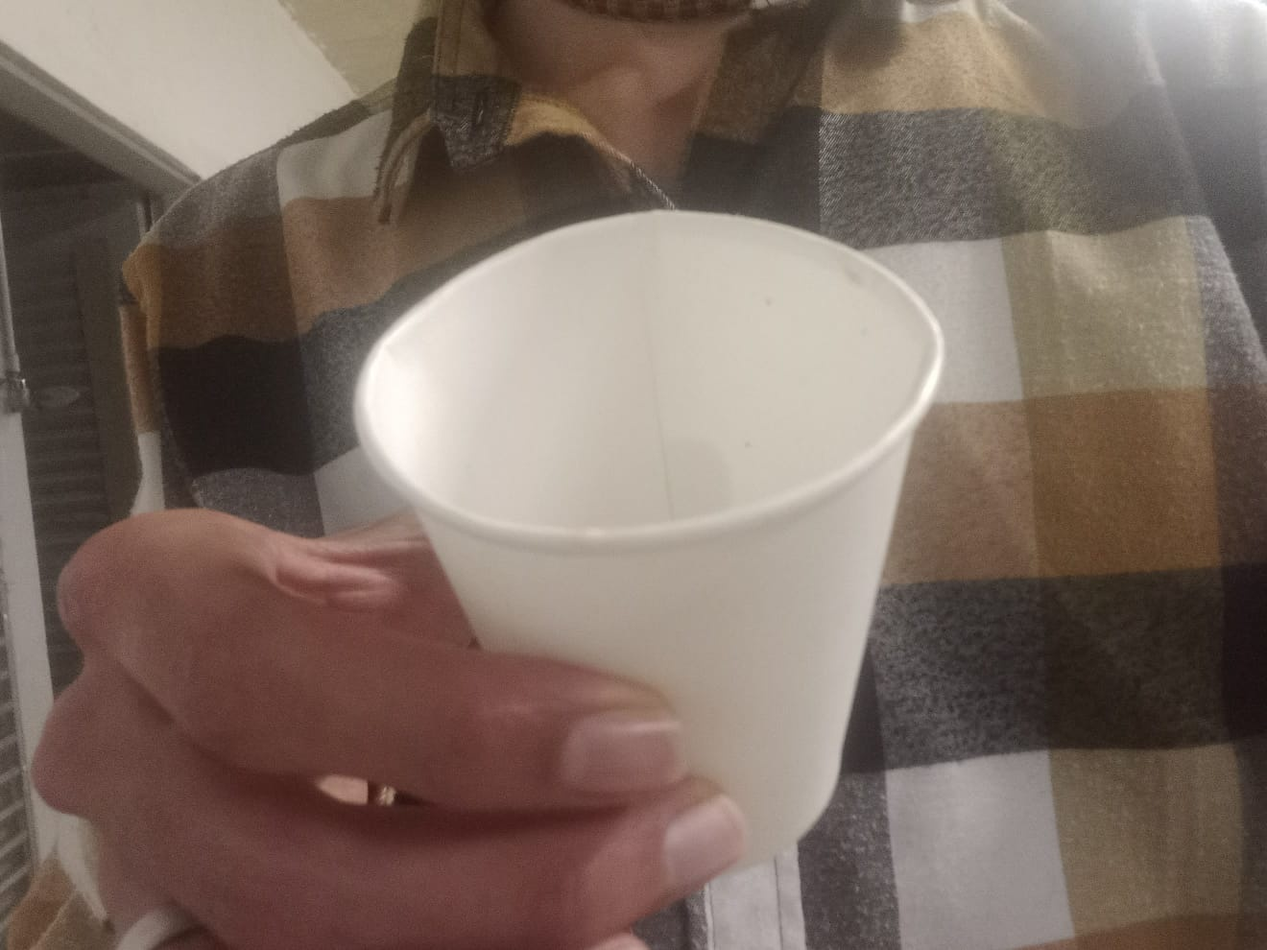Carton: (354, 209, 946, 856)
